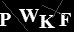F: (58, 12, 72, 27)
K: (37, 14, 55, 29)
P: (1, 12, 11, 26)
W: (17, 8, 39, 23)
